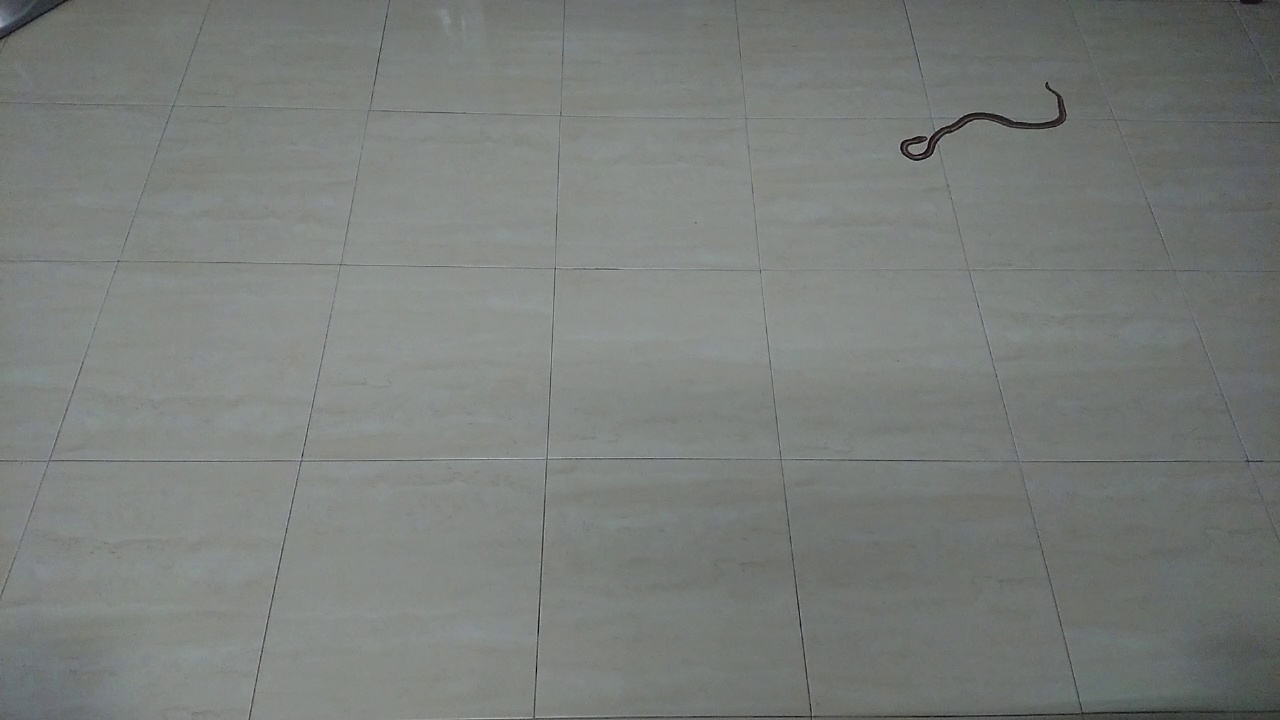snake: (883, 71, 1079, 174)
